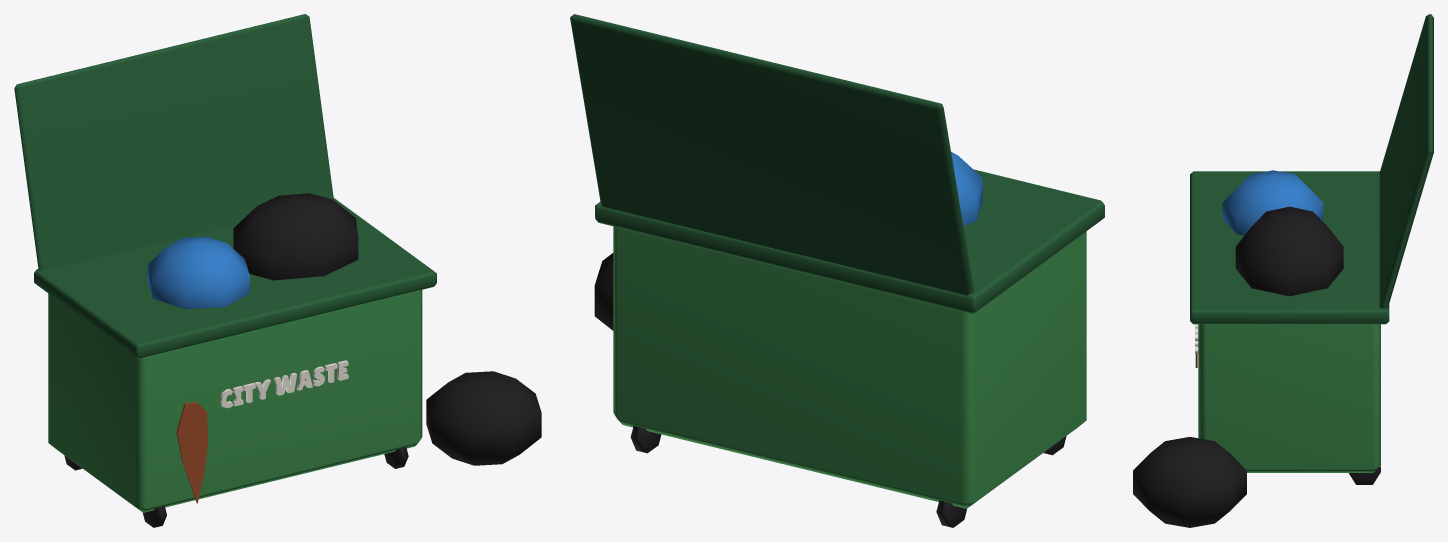
File: city_dumpster.glb
3 views of the same model, side by side, from view 1: azimuth 30°, elevation 25°; view 2: azimuth 150°, elevation 25°; view 3: azimuth 270°, elevation 25° (orthographic). The views are drawn at different scales.
Visible parts, largest first — view 1: Dumpster; view 2: Dumpster; view 3: Dumpster.
Boxes of the visible parts, x1,y1,x2,y2 form: Dumpster: (14,14,541,527); Dumpster: (570,14,1104,527); Dumpster: (1133,14,1433,527).
Bounding box in the file's own units: 2.64 × 2.31 × 1.81.
